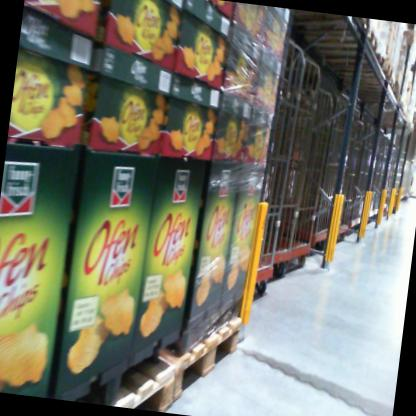pallet: (142, 300, 250, 405), (77, 345, 184, 413), (324, 27, 416, 80), (281, 15, 379, 57), (280, 9, 373, 48), (309, 42, 388, 73)
